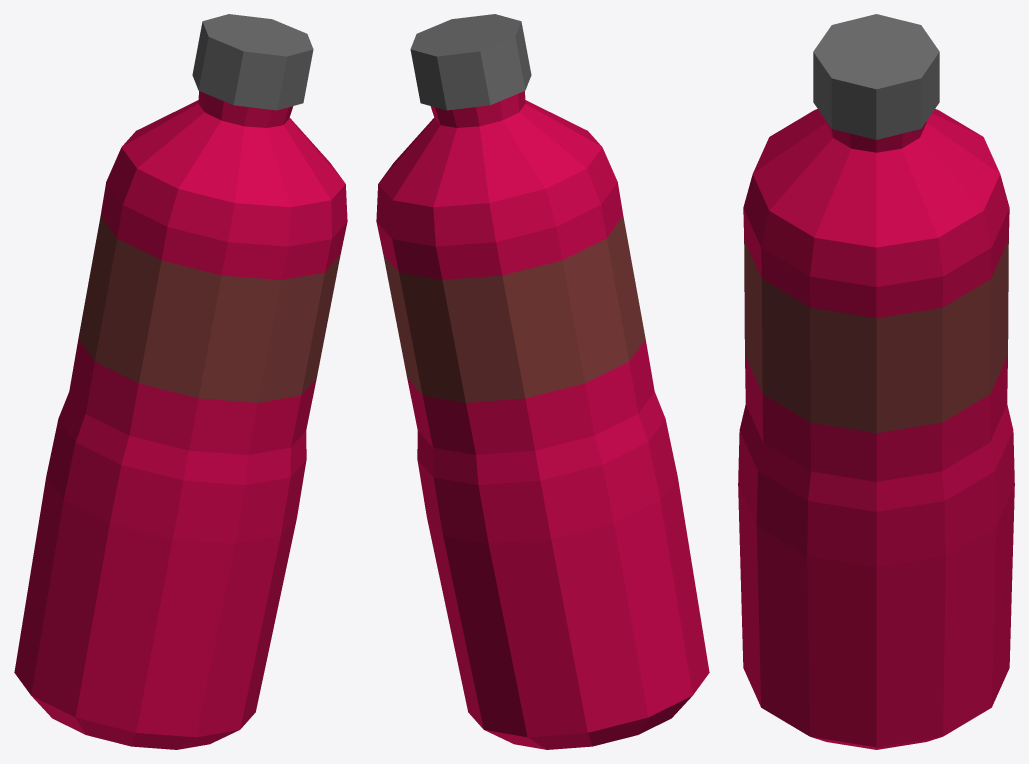
Rendered from PowerUp.fbx.
The picture shows the model from 3 angles, left to right: view 1: azimuth 30°, elevation 25°; view 2: azimuth 150°, elevation 25°; view 3: azimuth 270°, elevation 25°; orthographic projection. The views are drawn at different scales.
Parts seen in each view (by area): view 1: PowerUp; view 2: PowerUp; view 3: PowerUp.
Part boxes in pixels (x1,y1,x2,y2): PowerUp: [14, 14, 347, 749]; PowerUp: [376, 14, 709, 749]; PowerUp: [738, 14, 1014, 749].
Size of the model in its own units: 67.87 by 147 by 49.95.
